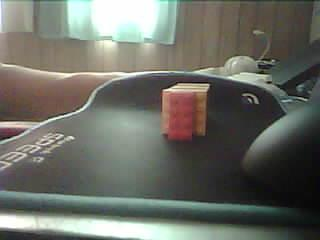lego: (161, 82, 208, 142)
